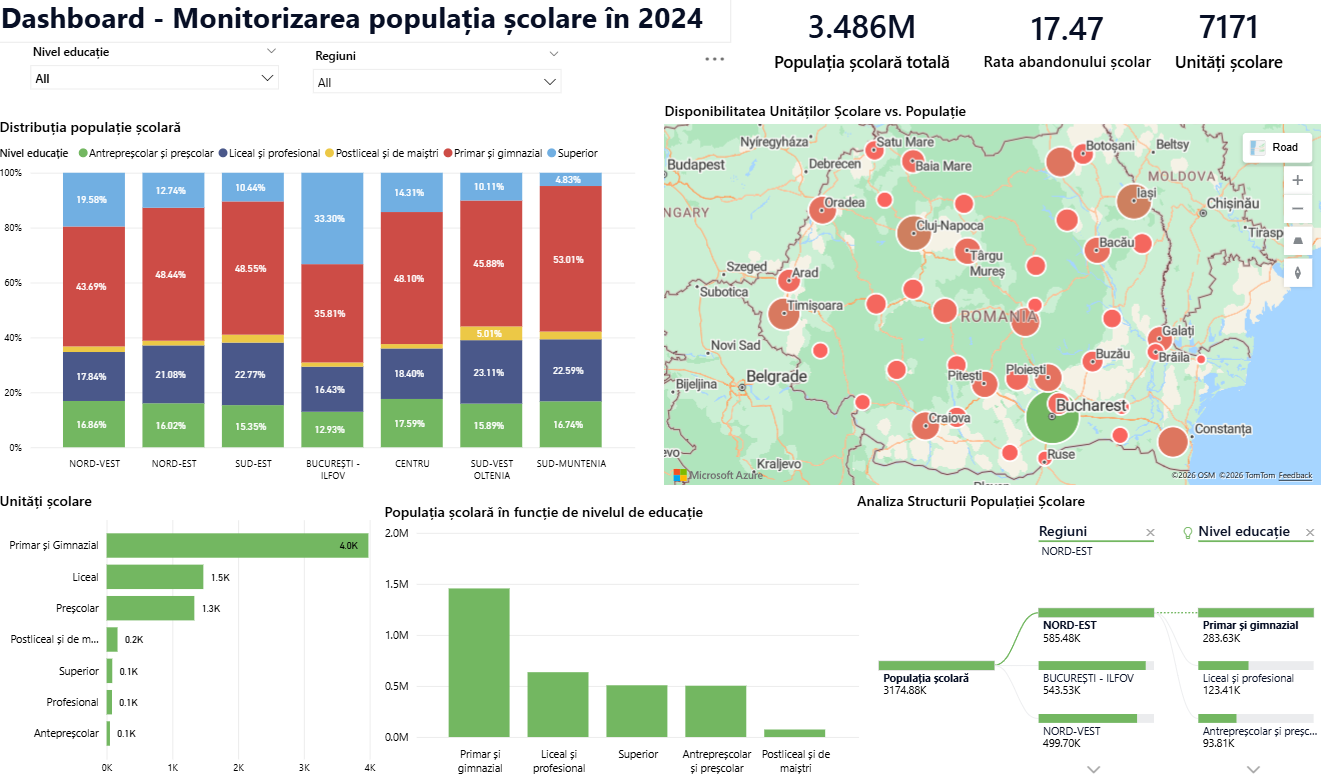

The dashboard page shown, as its layout file describes it:
{"tool":"powerbi","page":{"name":"Dashboard 2024","canvas":[1500,900],"ordinal":1},"visuals":[{"type":"hundredPercentStackedColumnChart","title":" Distribuția populație școlară  ","fields":{"Category":["Pop  scolara pe regiuni(2024).Regiuni"],"Series":["Pop  scolara pe regiuni(2024).Nivel educație "],"Y":["Sum(Pop  scolara pe regiuni(2024).Distribuție populație școlară)"]},"box":[0,150,726.7,420],"z":0},{"type":"card","fields":{"Values":["Pop  scolara pe judete (2024).Populația școlară totală"]},"box":[830,0,295,120],"z":1000},{"type":"card","fields":{"Values":["Unități scolare(2024).Unități școlare"]},"box":[1280,0,220,120],"z":2000},{"type":"textbox","box":[1.7,10,828.3,56.7],"z":3000},{"type":"clusteredBarChart","title":"Unități școlare ","fields":{"Category":["Unități scolare(2024).Nivel de educație"],"Y":["Sum(Unități scolare(2024).Număr unități școlare)"]},"box":[0,570,453.3,330],"z":4000},{"type":"azureMap","title":"Disponibilitatea Unităților Școlare vs. Populație","fields":{"Category":["Pop  scolara pe judete (2024).Judete"],"Size":["Sum(Pop  scolara pe judete (2024).Populatie scolara)"]},"box":[750,131.7,750,438.3],"z":6000},{"type":"decompositionTreeVisual","title":"Analiza Structurii Populației Școlare","fields":{"Analyze":["Sum(Pop  scolara pe regiuni(2024).Număr persoane)"],"ExplainBy":["Pop  scolara pe regiuni(2024).Regiuni","Pop  scolara pe regiuni(2024).Nivel educație "]},"box":[966.7,570,533.3,330],"z":7000},{"type":"slicer","fields":{"Values":["Pop  scolara pe regiuni(2024).Nivel educație "]},"box":[30,61.7,300,70],"z":7001},{"type":"card","fields":{"Values":["Avg(Rata abandon scolar.Rata abandonului școlar)"]},"box":[1095,0,228.3,121.7],"z":7002},{"type":"columnChart","title":"Populația școlară în funcție de nivelul de educație","fields":{"Category":["Pop  scolara pe regiuni(2024).Nivel educație "],"Y":["Sum(Pop  scolara pe regiuni(2024).Număr persoane)"]},"box":[433.3,583.3,545,316.7],"z":7003},{"type":"slicer","fields":{"Values":["Pop  scolara pe regiuni(2024).Regiuni"]},"box":[348.3,66.7,300,65],"z":7004}]}

Visuals, with their boxes in screenshot pixels (x1, y1, x2, y2), scaled from the page's 1500x900 canvas onto the 1322x779 screenshot:
" Distribuția populație școlară  " hundredPercentStackedColumnChart: box=[0, 130, 640, 493]
card - Pop  scolara pe judete (2024).Populația școlară totală: box=[732, 0, 992, 104]
card - Unități scolare(2024).Unități școlare: box=[1128, 0, 1321, 104]
textbox: box=[1, 9, 732, 58]
"Unități școlare " clusteredBarChart: box=[0, 493, 400, 778]
"Disponibilitatea Unităților Școlare vs. Populație" azureMap: box=[661, 114, 1321, 493]
"Analiza Structurii Populației Școlare" decompositionTreeVisual: box=[852, 493, 1321, 778]
slicer - Pop  scolara pe regiuni(2024).Nivel educație : box=[26, 53, 291, 114]
card - Avg(Rata abandon scolar.Rata abandonului școlar): box=[965, 0, 1166, 105]
"Populația școlară în funcție de nivelul de educație" columnChart: box=[382, 505, 862, 778]
slicer - Pop  scolara pe regiuni(2024).Regiuni: box=[307, 58, 571, 114]
